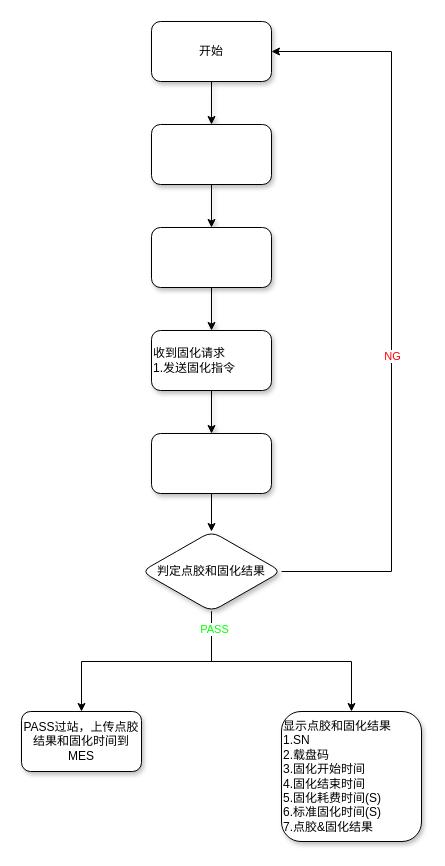
Some shapes in this 445 by 866 pixel diagram are drawn without their labels. The shapes that lost their labels are listed below. From the top down, each one's centre as x and y in pixels, then its label:
(x=212, y=156): 获取到请求点胶信号 1.发送点胶指令
(x=212, y=258): 收到点胶结果 1.确认点胶数量和结果 2.回复
(x=212, y=464): 收到固化结果 1.确认固化时间 2.回复
